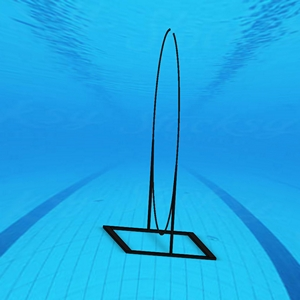circle: (101, 26, 222, 266)
